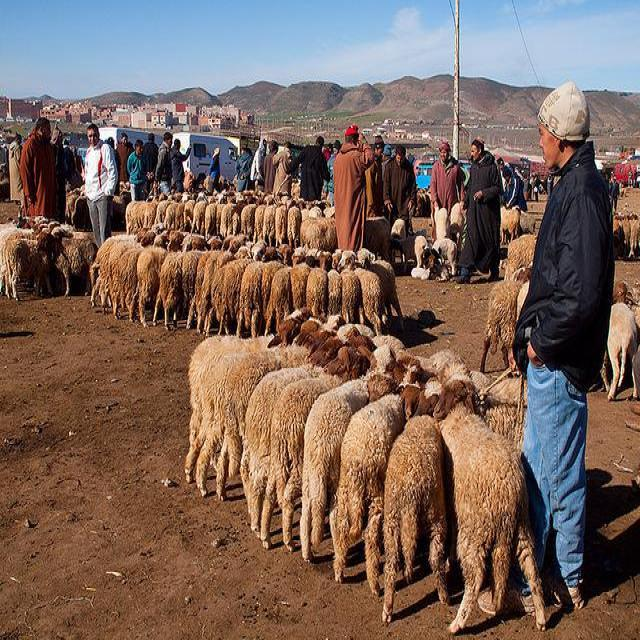Sheep: (0, 179, 639, 549), (432, 363, 547, 636), (270, 334, 404, 554), (217, 315, 346, 501), (299, 344, 402, 560), (236, 328, 358, 500), (328, 386, 423, 598), (185, 321, 299, 484), (382, 390, 458, 622), (197, 244, 254, 336), (355, 270, 388, 338)
